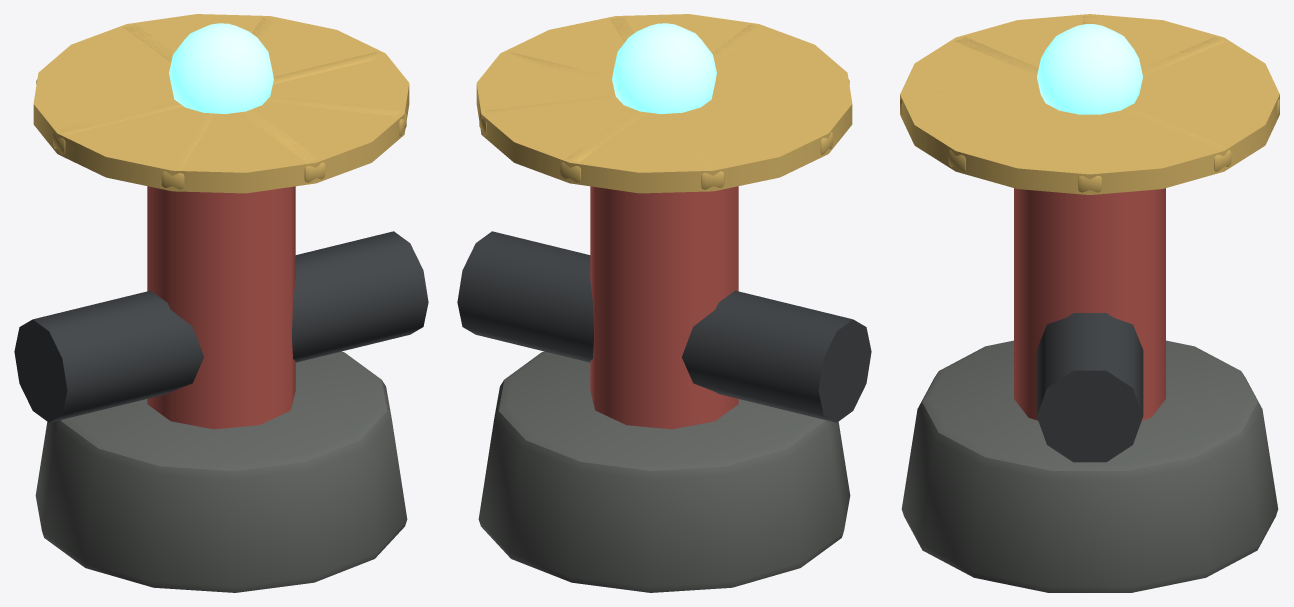
Rendered from coolant_valve.glb.
3 renders of one model, left to right at view 1: azimuth 30°, elevation 25°; view 2: azimuth 150°, elevation 25°; view 3: azimuth 270°, elevation 25°, orthographic.
Parts seen in each view (by area): view 1: body_mesh; view 2: body_mesh; view 3: body_mesh.
Part boxes in pixels (x1,y1,x2,y2): body_mesh: [14, 14, 428, 592]; body_mesh: [457, 14, 871, 592]; body_mesh: [900, 14, 1279, 592].
Size of the model in its own units: 1.1 by 1.42 by 1.
